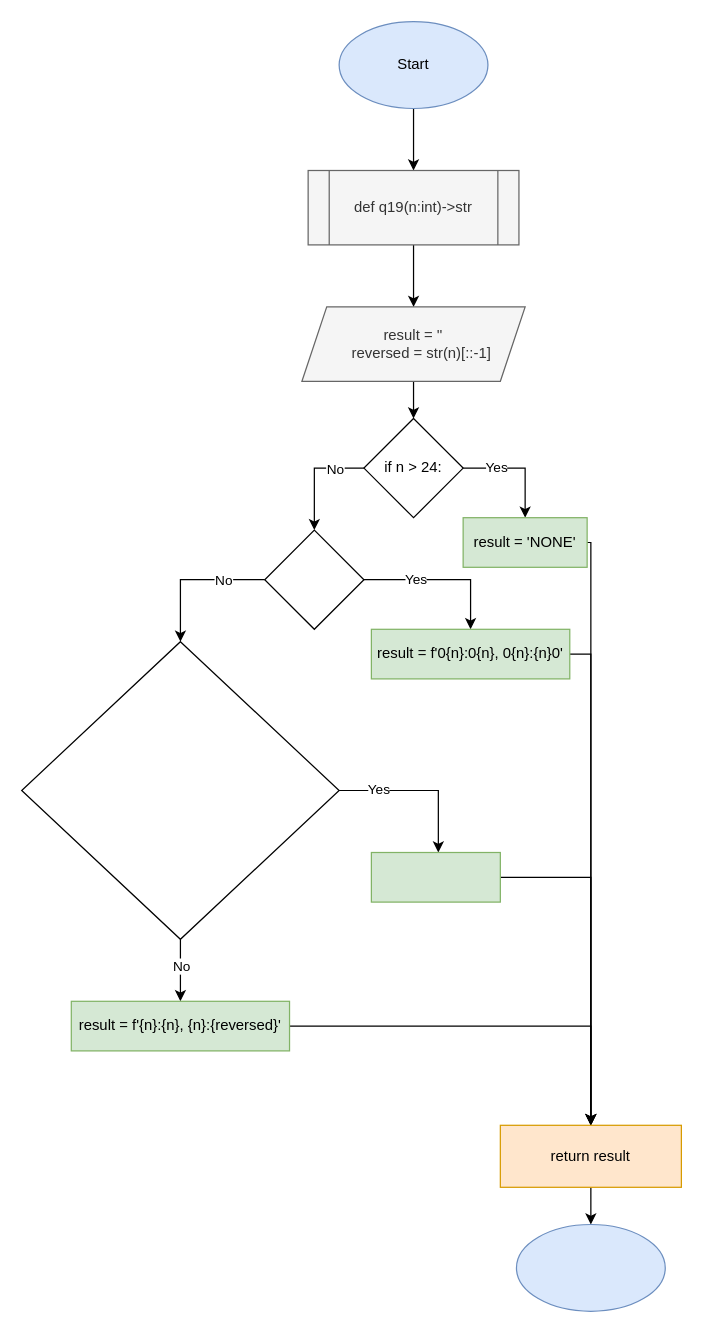
Some shapes in this 703 by 1333 pixel diagram are drawn without their labels. The shapes that lost their labels are listed below. From the top down, each one's box as (x1, y1, x2, y2) in pixels, then its label:
(264, 529, 364, 629): elif n < 10
(20, 640, 339, 939): elif int(reversed) > 60 or int(reversed) == n
(370, 851, 500, 902): result = f'{n}:{n}'
(515, 1223, 665, 1311): End
